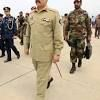uniform: (67, 7, 91, 74)
